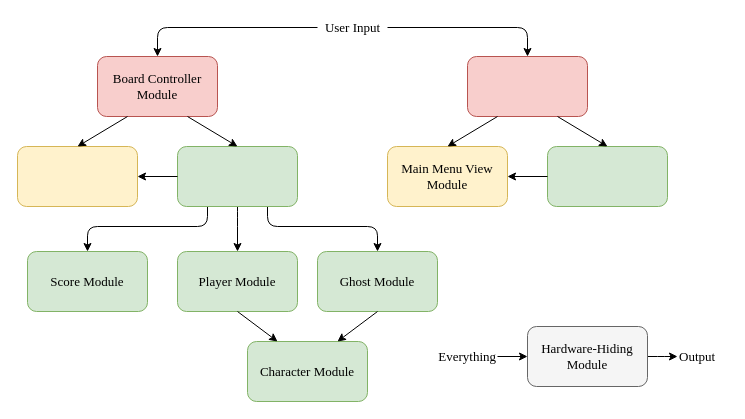
Some shapes in this 745 by 419 pixel diagram are drawn without their labels. The shapes that lost their labels are listed below. From the top down, each one's centre as x and y in pixels, then its label:
(x=527, y=86): Key Controller Module
(x=77, y=176): Board View Module
(x=237, y=176): Board Module
(x=607, y=176): Main Menu Module
